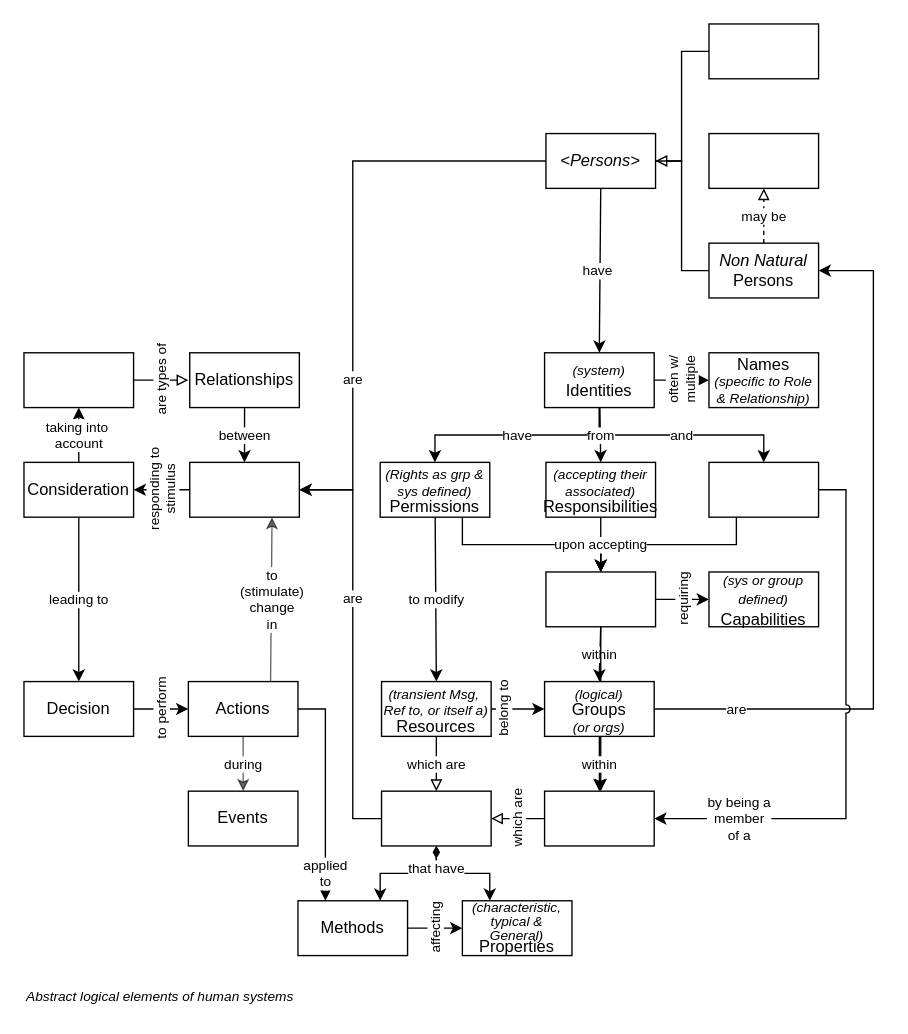
The diagram is 908 pixels wide and 1034 high, and some of its shapes have lost their labels. The centre of each missing label's shape, as x and y in pixels:
(expected) Duties: [763,489]
(logical) Roles: [600,599]
(natural, eng'd, activity, abstract) Systems: [598,818]
<Objects>: [435,818]
Entities: [243,489]
Legal Persons (eg: orgs, tribes): [763,160]
Natural Persons: [763,51]
Trustability & Credibility: [78,379]
